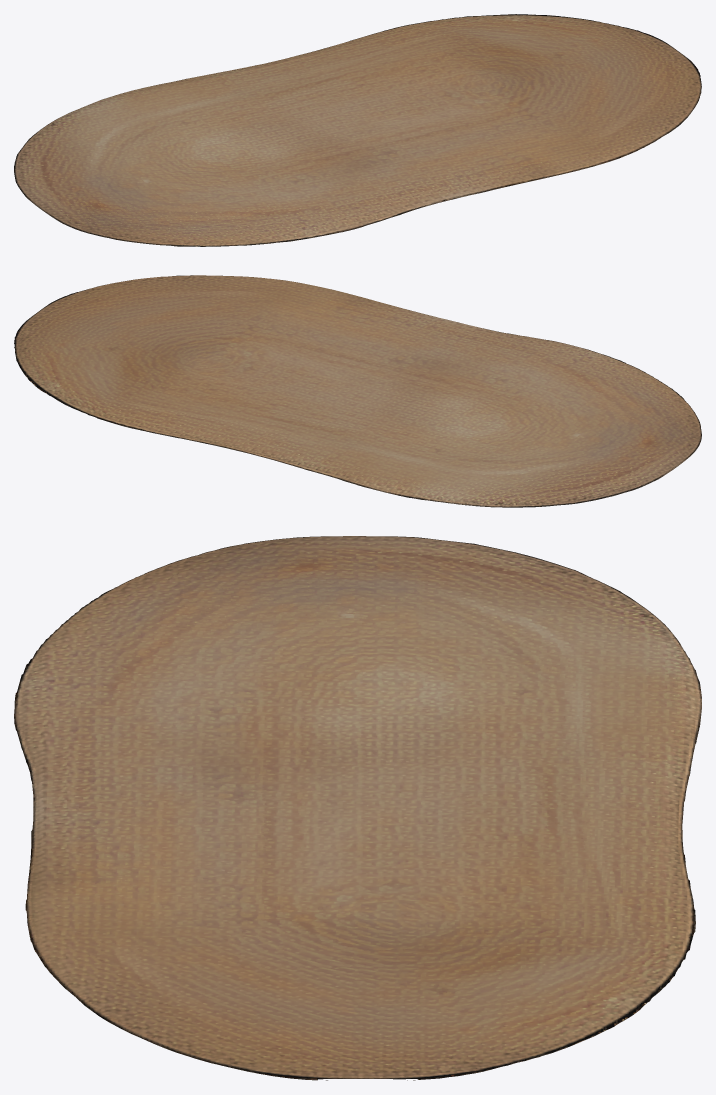
File: rugCalm.glb
The picture shows the model from 3 angles, top to bottom: view 1: azimuth 30°, elevation 25°; view 2: azimuth 150°, elevation 25°; view 3: azimuth 270°, elevation 25°; orthographic projection. The views are drawn at different scales.
Parts seen in each view (by area): view 1: world; view 2: world; view 3: world.
Boxes of the visible parts, x1=… form: world: x1=14, y1=14, x2=701, y2=246; world: x1=14, y1=275, x2=701, y2=507; world: x1=14, y1=536, x2=701, y2=1080.
Size of the model in its own units: 1 by 0.00906 by 0.535.
Materials: 1 (1 with a texture image).
